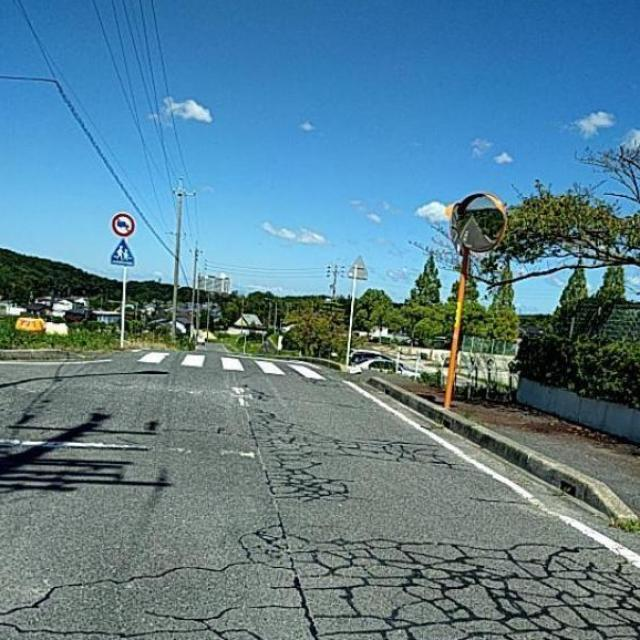Retak Buaya: (280, 544, 640, 640), (255, 425, 462, 472)
